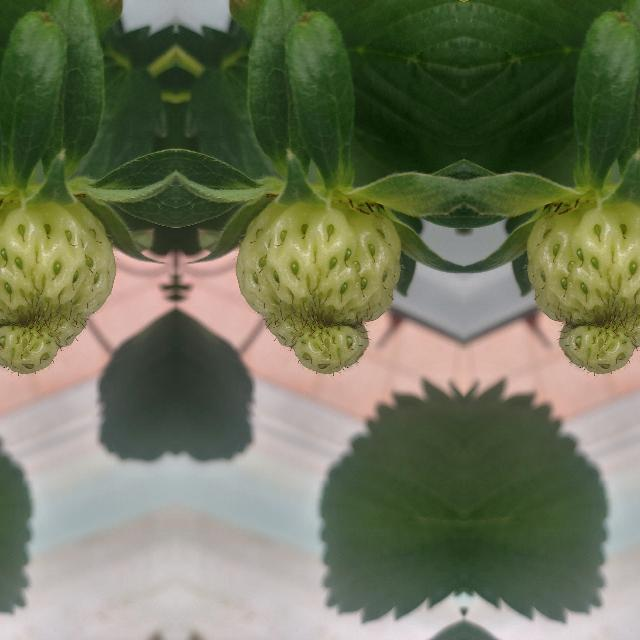Health_25: (234, 201, 400, 373), (0, 201, 115, 373), (526, 201, 640, 373)
